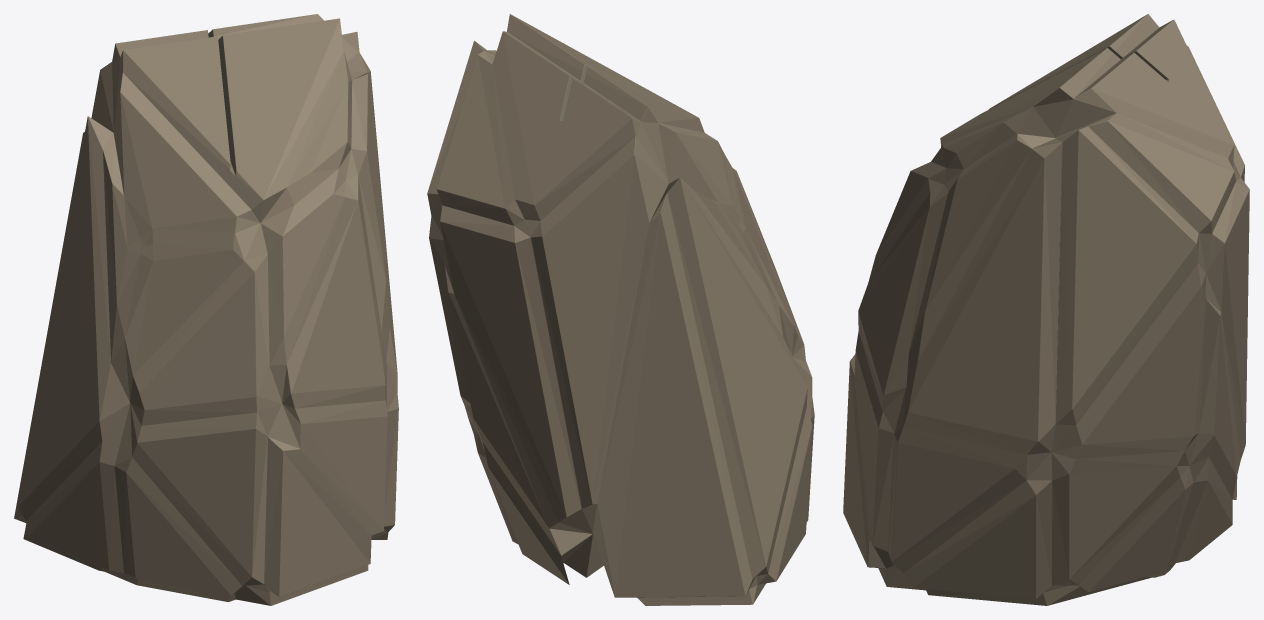
Rendered from V7_Granit_2.fbx.
The picture shows the model from 3 angles, left to right: view 1: azimuth 30°, elevation 25°; view 2: azimuth 150°, elevation 25°; view 3: azimuth 270°, elevation 25°; orthographic projection. The views are drawn at different scales.
Parts seen in each view (by area): view 1: V7_Granit_2; view 2: V7_Granit_2; view 3: V7_Granit_2.
Boxes of the visible parts, x1,y1,x2,y2 form: V7_Granit_2: (14,14,398,605); V7_Granit_2: (427,14,814,605); V7_Granit_2: (843,14,1249,605).
Size of the model in its own units: 179 by 251 by 176.
